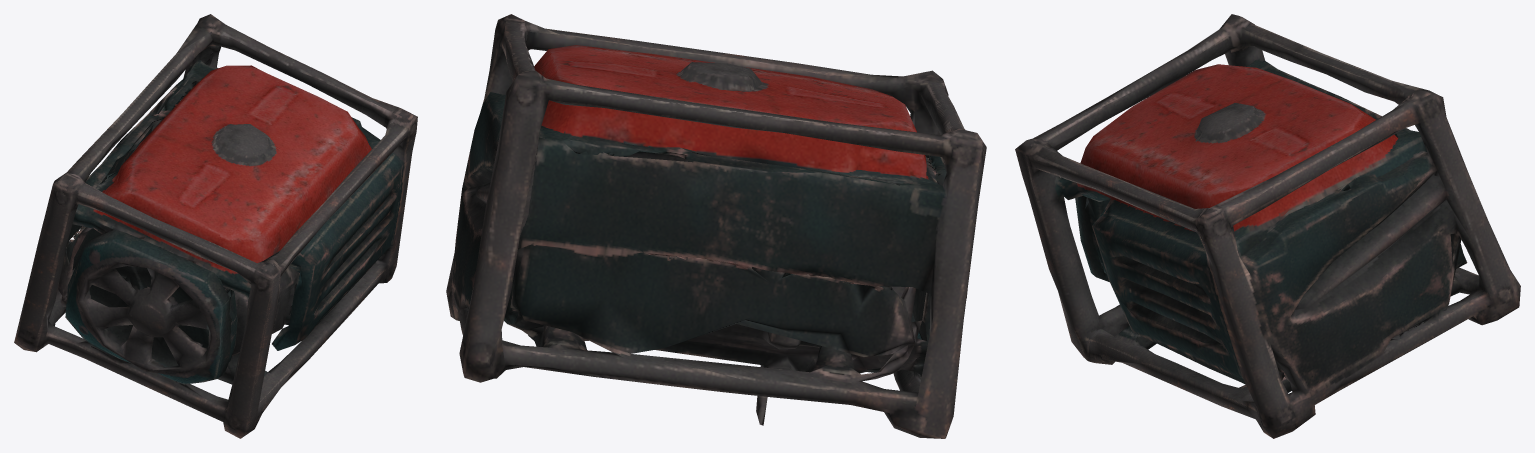
The model's file is generator_raw.glb.
The picture shows the model from 3 angles, left to right: view 1: azimuth 30°, elevation 25°; view 2: azimuth 150°, elevation 25°; view 3: azimuth 270°, elevation 25°; orthographic projection. The views are drawn at different scales.
Size of the model in its own units: 0.908 by 0.6839 by 0.9448.
Materials: 1 (1 with a texture image).
